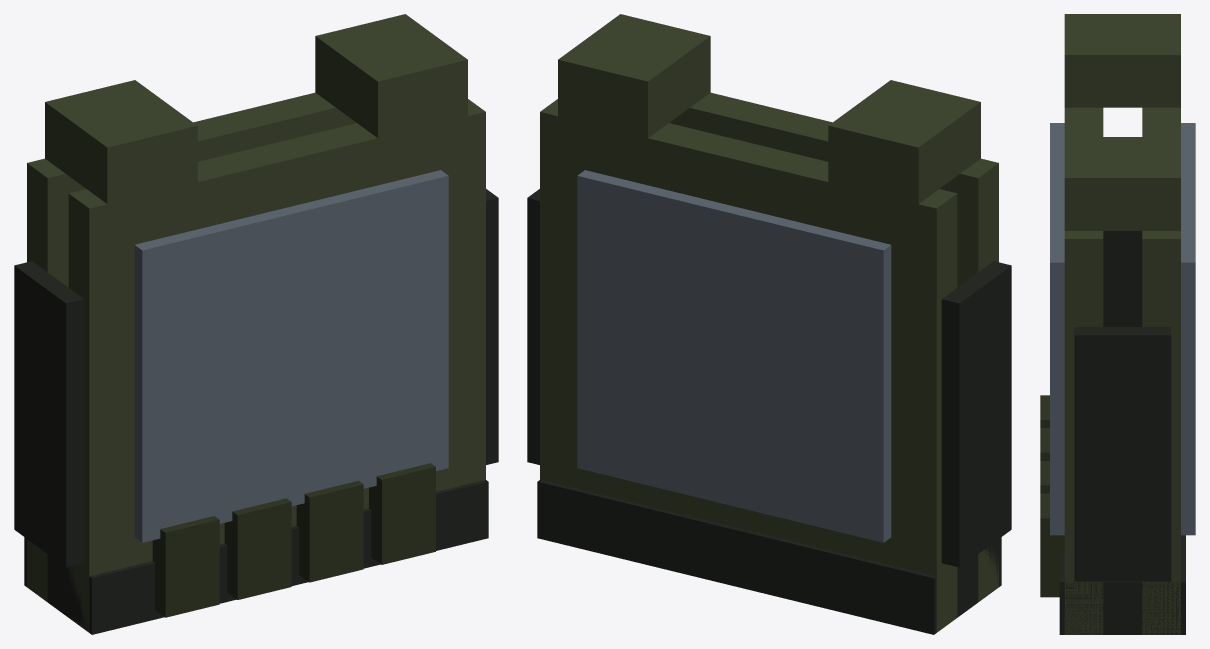
File: colete_placas.glb
3 renders of one model, left to right at view 1: azimuth 30°, elevation 25°; view 2: azimuth 150°, elevation 25°; view 3: azimuth 270°, elevation 25°, orthographic. The views are drawn at different scales.
Parts seen in each view (by area): view 1: colete_placas; view 2: colete_placas; view 3: colete_placas.
Boxes of the visible parts, box(x1,y1,x2,y2) form: colete_placas: box(14, 14, 498, 634); colete_placas: box(527, 14, 1011, 634); colete_placas: box(1040, 14, 1195, 634).
Bounding box in the file's own units: 0.48 × 0.51 × 0.16.
